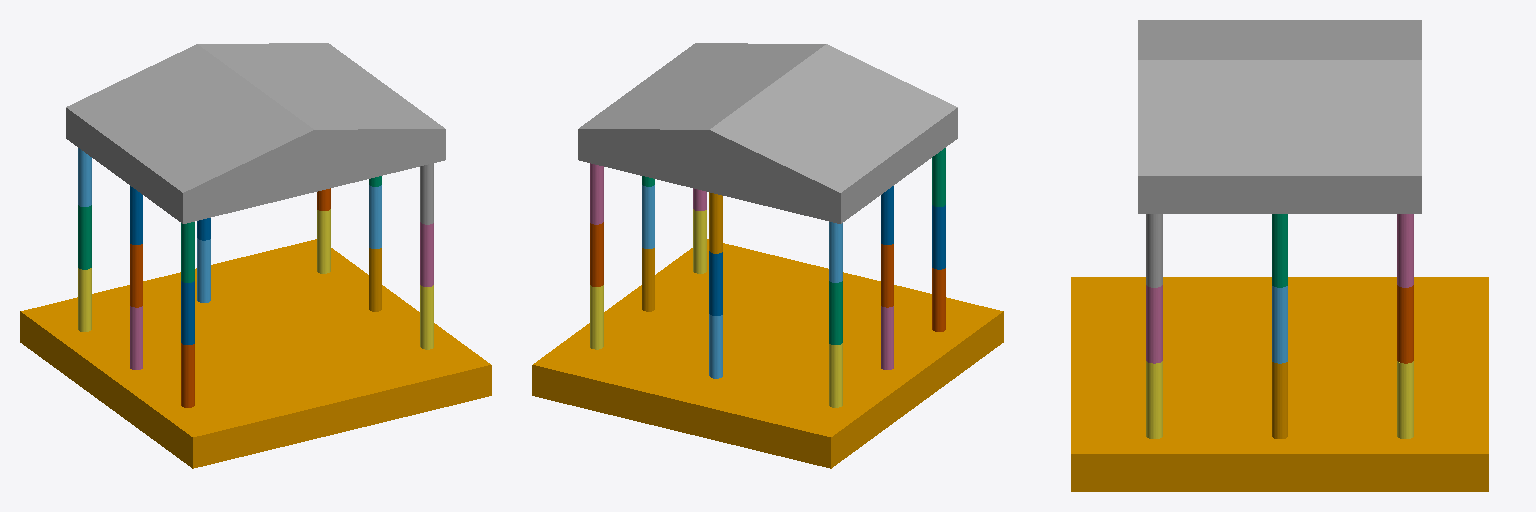
URDF robot description (pagoda):
<robot name="pagoda" version="1.0">
  <joint name="pole_10_joint" type="fixed">
    <origin rpy="0.00000 0.00000 0.00000" xyz="0.00000 0.15000 -0.03729"/>
    <parent link="base_link"/>
    <child link="Pole.010_link"/>
  </joint>
  <joint name="pole_11_joint" type="fixed">
    <origin rpy="0.00000 0.00000 0.00000" xyz="0.00000 0.15000 0.06271"/>
    <parent link="base_link"/>
    <child link="Pole.011_link"/>
  </joint>
  <joint name="pole_1_joint" type="fixed">
    <origin rpy="0.00000 0.00000 0.00000" xyz="0.20000 -0.15000 -0.03729"/>
    <parent link="base_link"/>
    <child link="Pole.001_link"/>
  </joint>
  <joint name="pole_20_joint" type="fixed">
    <origin rpy="0.00000 0.00000 0.00000" xyz="-0.20000 -0.15000 0.06271"/>
    <parent link="base_link"/>
    <child link="Pole.020_link"/>
  </joint>
  <joint name="pole_21_joint" type="fixed">
    <origin rpy="0.00000 0.00000 0.00000" xyz="-0.20000 -0.15000 -0.03729"/>
    <parent link="base_link"/>
    <child link="Pole.021_link"/>
  </joint>
  <joint name="pole_2_joint" type="fixed">
    <origin rpy="0.00000 0.00000 0.00000" xyz="0.20000 -0.15000 0.06271"/>
    <parent link="base_link"/>
    <child link="Pole.002_link"/>
  </joint>
  <joint name="pole_3_joint" type="fixed">
    <origin rpy="0.00000 0.00000 0.00000" xyz="0.20000 -0.15000 0.16271"/>
    <parent link="base_link"/>
    <child link="Pole.003_link"/>
  </joint>
  <joint name="pole_4_joint" type="fixed">
    <origin rpy="0.00000 0.00000 0.00000" xyz="0.20000 0.00000 -0.03729"/>
    <parent link="base_link"/>
    <child link="Pole.004_link"/>
  </joint>
  <joint name="pole_5_joint" type="fixed">
    <origin rpy="0.00000 0.00000 0.00000" xyz="0.20000 0.00000 0.06271"/>
    <parent link="base_link"/>
    <child link="Pole.005_link"/>
  </joint>
  <joint name="pole_6_joint" type="fixed">
    <origin rpy="0.00000 0.00000 0.00000" xyz="0.20000 0.00000 0.16271"/>
    <parent link="base_link"/>
    <child link="Pole.006_link"/>
  </joint>
  <joint name="pole_7_joint" type="fixed">
    <origin rpy="0.00000 0.00000 0.00000" xyz="0.20000 0.15000 -0.03729"/>
    <parent link="base_link"/>
    <child link="Pole.007_link"/>
  </joint>
  <joint name="pole_8_joint" type="fixed">
    <origin rpy="0.00000 0.00000 0.00000" xyz="0.20000 0.15011 0.06271"/>
    <parent link="base_link"/>
    <child link="Pole.008_link"/>
  </joint>
  <joint name="pole_12_joint" type="fixed">
    <origin rpy="0.00000 0.00000 0.00000" xyz="0.00000 0.15000 0.16271"/>
    <parent link="base_link"/>
    <child link="Pole.012_link"/>
  </joint>
  <joint name="pole_9_joint" type="fixed">
    <origin rpy="0.00000 0.00000 0.00000" xyz="0.20000 0.15011 0.16271"/>
    <parent link="base_link"/>
    <child link="Pole.009_link"/>
  </joint>
  <joint name="roof_joint" type="fixed">
    <origin rpy="0.00000 0.00000 0.00000" xyz="-0.00003 0.00016 0.30210"/>
    <parent link="base_link"/>
    <child link="Roof_link"/>
  </joint>
  <joint name="pole_13_joint" type="fixed">
    <origin rpy="0.00000 0.00000 0.00000" xyz="-0.20000 0.15000 0.16271"/>
    <parent link="base_link"/>
    <child link="Pole.013_link"/>
  </joint>
  <joint name="pole_14_joint" type="fixed">
    <origin rpy="0.00000 0.00000 0.00000" xyz="-0.20000 0.15000 0.06271"/>
    <parent link="base_link"/>
    <child link="Pole.014_link"/>
  </joint>
  <joint name="pole_15_joint" type="fixed">
    <origin rpy="0.00000 0.00000 0.00000" xyz="-0.20000 0.15000 -0.03729"/>
    <parent link="base_link"/>
    <child link="Pole.015_link"/>
  </joint>
  <joint name="pole_16_joint" type="fixed">
    <origin rpy="0.00000 0.00000 0.00000" xyz="-0.20000 0.00000 0.16271"/>
    <parent link="base_link"/>
    <child link="Pole.016_link"/>
  </joint>
  <joint name="pole_17_joint" type="fixed">
    <origin rpy="0.00000 0.00000 0.00000" xyz="-0.20000 0.00000 0.06271"/>
    <parent link="base_link"/>
    <child link="Pole.017_link"/>
  </joint>
  <joint name="pole_18_joint" type="fixed">
    <origin rpy="0.00000 0.00000 0.00000" xyz="-0.20000 0.00000 -0.03729"/>
    <parent link="base_link"/>
    <child link="Pole.018_link"/>
  </joint>
  <joint name="pole_19_joint" type="fixed">
    <origin rpy="0.00000 0.00000 0.00000" xyz="-0.20000 -0.15000 0.16271"/>
    <parent link="base_link"/>
    <child link="Pole.019_link"/>
  </joint>
  <link name="base_link">
    <collision name="Base_collision">
      <origin rpy="0.00000 0.00000 0.00000" xyz="0.00000 0.00000 -0.12479"/>
      <geometry>
        <box size="0.50000 0.50000 0.05000"/>
      </geometry>
    </collision>
    <visual name="Base">
      <material name="None"/>
      <origin rpy="0.00000 0.00000 0.00000" xyz="0.00000 0.00000 -0.12479"/>
      <geometry>
        <mesh filename="../meshes/stl/Cube.001.stl" scale="1.00000 1.00000 1.00000"/>
      </geometry>
    </visual>
  </link>
  <link name="Pole.010_link">
    <collision name="Pole.010_collision">
      <origin rpy="0.00000 0.00000 0.00000" xyz="-0.00000 -0.00000 -0.01250"/>
      <geometry>
        <cylinder radius="0.01000" length="0.10000"/>
      </geometry>
    </collision>
    <visual name="Pole.010">
      <material name="None"/>
      <origin rpy="0.00000 0.00000 0.00000" xyz="-0.00000 -0.00000 -0.01250"/>
      <geometry>
        <cylinder radius="0.01000" length="0.10000"/>
      </geometry>
    </visual>
  </link>
  <link name="Pole.019_link">
    <collision name="Pole.019_collision">
      <origin rpy="0.00000 0.00000 0.00000" xyz="0.00000 -0.00000 -0.01250"/>
      <geometry>
        <cylinder radius="0.01000" length="0.10000"/>
      </geometry>
    </collision>
    <visual name="Pole.019">
      <material name="None"/>
      <origin rpy="0.00000 0.00000 0.00000" xyz="0.00000 -0.00000 -0.01250"/>
      <geometry>
        <cylinder radius="0.01000" length="0.10000"/>
      </geometry>
    </visual>
  </link>
  <link name="Pole.001_link">
    <collision name="Pole.001_collision">
      <origin rpy="0.00000 0.00000 0.00000" xyz="-0.00000 -0.00000 -0.01250"/>
      <geometry>
        <cylinder radius="0.01000" length="0.10000"/>
      </geometry>
    </collision>
    <visual name="Pole.001">
      <material name="None"/>
      <origin rpy="0.00000 0.00000 0.00000" xyz="-0.00000 -0.00000 -0.01250"/>
      <geometry>
        <cylinder radius="0.01000" length="0.10000"/>
      </geometry>
    </visual>
  </link>
  <link name="Pole.020_link">
    <collision name="Pole.020_collision">
      <origin rpy="0.00000 0.00000 0.00000" xyz="0.00000 -0.00000 -0.01250"/>
      <geometry>
        <cylinder radius="0.01000" length="0.10000"/>
      </geometry>
    </collision>
    <visual name="Pole.020">
      <material name="None"/>
      <origin rpy="0.00000 0.00000 0.00000" xyz="0.00000 -0.00000 -0.01250"/>
      <geometry>
        <cylinder radius="0.01000" length="0.10000"/>
      </geometry>
    </visual>
  </link>
  <link name="Pole.021_link">
    <collision name="Pole.021_collision">
      <origin rpy="0.00000 0.00000 0.00000" xyz="0.00000 -0.00000 -0.01250"/>
      <geometry>
        <cylinder radius="0.01000" length="0.10000"/>
      </geometry>
    </collision>
    <visual name="Pole.021">
      <material name="None"/>
      <origin rpy="0.00000 0.00000 0.00000" xyz="0.00000 -0.00000 -0.01250"/>
      <geometry>
        <cylinder radius="0.01000" length="0.10000"/>
      </geometry>
    </visual>
  </link>
  <link name="Pole.002_link">
    <collision name="Pole.002_collision">
      <origin rpy="0.00000 0.00000 0.00000" xyz="-0.00000 -0.00000 -0.01250"/>
      <geometry>
        <cylinder radius="0.01000" length="0.10000"/>
      </geometry>
    </collision>
    <visual name="Pole.002">
      <material name="None"/>
      <origin rpy="0.00000 0.00000 0.00000" xyz="-0.00000 -0.00000 -0.01250"/>
      <geometry>
        <cylinder radius="0.01000" length="0.10000"/>
      </geometry>
    </visual>
  </link>
  <link name="Pole.003_link">
    <collision name="Pole.003_collision">
      <origin rpy="0.00000 0.00000 0.00000" xyz="-0.00000 -0.00000 -0.01250"/>
      <geometry>
        <cylinder radius="0.01000" length="0.10000"/>
      </geometry>
    </collision>
    <visual name="Pole.003">
      <material name="None"/>
      <origin rpy="0.00000 0.00000 0.00000" xyz="-0.00000 -0.00000 -0.01250"/>
      <geometry>
        <cylinder radius="0.01000" length="0.10000"/>
      </geometry>
    </visual>
  </link>
  <link name="Pole.004_link">
    <collision name="Pole.004_collision">
      <origin rpy="0.00000 0.00000 0.00000" xyz="-0.00000 0.00000 -0.01250"/>
      <geometry>
        <cylinder radius="0.01000" length="0.10000"/>
      </geometry>
    </collision>
    <visual name="Pole.004">
      <material name="None"/>
      <origin rpy="0.00000 0.00000 0.00000" xyz="0.00000 0.00000 -0.01250"/>
      <geometry>
        <cylinder radius="0.01000" length="0.10000"/>
      </geometry>
    </visual>
  </link>
  <link name="Pole.005_link">
    <collision name="Pole.005_collision">
      <origin rpy="0.00000 0.00000 0.00000" xyz="-0.00000 0.00000 -0.01250"/>
      <geometry>
        <cylinder radius="0.01000" length="0.10000"/>
      </geometry>
    </collision>
    <visual name="Pole.005">
      <material name="None"/>
      <origin rpy="0.00000 0.00000 0.00000" xyz="0.00000 0.00000 -0.01250"/>
      <geometry>
        <cylinder radius="0.01000" length="0.10000"/>
      </geometry>
    </visual>
  </link>
  <link name="Pole.006_link">
    <collision name="Pole.006_collision">
      <origin rpy="0.00000 0.00000 0.00000" xyz="-0.00000 0.00000 -0.01250"/>
      <geometry>
        <cylinder radius="0.01000" length="0.10000"/>
      </geometry>
    </collision>
    <visual name="Pole.006">
      <material name="None"/>
      <origin rpy="0.00000 0.00000 0.00000" xyz="0.00000 0.00000 -0.01250"/>
      <geometry>
        <cylinder radius="0.01000" length="0.10000"/>
      </geometry>
    </visual>
  </link>
  <link name="Pole.007_link">
    <collision name="Pole.007_collision">
      <origin rpy="0.00000 0.00000 0.00000" xyz="-0.00000 -0.00000 -0.01250"/>
      <geometry>
        <cylinder radius="0.01000" length="0.10000"/>
      </geometry>
    </collision>
    <visual name="Pole.007">
      <material name="None"/>
      <origin rpy="0.00000 0.00000 0.00000" xyz="-0.00000 -0.00000 -0.01250"/>
      <geometry>
        <cylinder radius="0.01000" length="0.10000"/>
      </geometry>
    </visual>
  </link>
  <link name="Pole.011_link">
    <collision name="Pole.011_collision">
      <origin rpy="0.00000 0.00000 0.00000" xyz="-0.00000 -0.00000 -0.01250"/>
      <geometry>
        <cylinder radius="0.01000" length="0.10000"/>
      </geometry>
    </collision>
    <visual name="Pole.011">
      <material name="None"/>
      <origin rpy="0.00000 0.00000 0.00000" xyz="-0.00000 -0.00000 -0.01250"/>
      <geometry>
        <cylinder radius="0.01000" length="0.10000"/>
      </geometry>
    </visual>
  </link>
  <link name="Pole.008_link">
    <collision name="Pole.008_collision">
      <origin rpy="0.00000 0.00000 0.00000" xyz="-0.00000 0.00000 -0.01250"/>
      <geometry>
        <cylinder radius="0.01000" length="0.10000"/>
      </geometry>
    </collision>
    <visual name="Pole.008">
      <material name="None"/>
      <origin rpy="0.00000 0.00000 0.00000" xyz="-0.00000 0.00000 -0.01250"/>
      <geometry>
        <cylinder radius="0.01000" length="0.10000"/>
      </geometry>
    </visual>
  </link>
  <link name="Pole.009_link">
    <collision name="Pole.009_collision">
      <origin rpy="0.00000 0.00000 0.00000" xyz="-0.00000 0.00000 -0.01250"/>
      <geometry>
        <cylinder radius="0.01000" length="0.10000"/>
      </geometry>
    </collision>
    <visual name="Pole.009">
      <material name="None"/>
      <origin rpy="0.00000 0.00000 0.00000" xyz="-0.00000 0.00000 -0.01250"/>
      <geometry>
        <cylinder radius="0.01000" length="0.10000"/>
      </geometry>
    </visual>
  </link>
  <link name="Roof_link">
    <collision name="Roof_collision">
      <origin rpy="0.00000 0.00000 0.00000" xyz="-0.00052 0.00052 -0.03557"/>
      <geometry>
        <mesh filename="../meshes/stl/geometry_0.stl" scale="1.00000 1.00000 1.00000"/>
      </geometry>
    </collision>
    <visual name="Roof">
      <material name="None"/>
      <origin rpy="0.00000 0.00000 0.00000" xyz="0.00000 -0.00000 -0.05000"/>
      <geometry>
        <mesh filename="../meshes/stl/Cube.002.stl" scale="1.00000 1.00000 1.00000"/>
      </geometry>
    </visual>
  </link>
  <link name="Pole.012_link">
    <collision name="Pole.012_collision">
      <origin rpy="0.00000 0.00000 0.00000" xyz="-0.00000 -0.00000 -0.01250"/>
      <geometry>
        <cylinder radius="0.01000" length="0.10000"/>
      </geometry>
    </collision>
    <visual name="Pole.012">
      <material name="None"/>
      <origin rpy="0.00000 0.00000 0.00000" xyz="-0.00000 -0.00000 -0.01250"/>
      <geometry>
        <cylinder radius="0.01000" length="0.10000"/>
      </geometry>
    </visual>
  </link>
  <link name="Pole.013_link">
    <collision name="Pole.013_collision">
      <origin rpy="0.00000 0.00000 0.00000" xyz="0.00000 -0.00000 -0.01250"/>
      <geometry>
        <cylinder radius="0.01000" length="0.10000"/>
      </geometry>
    </collision>
    <visual name="Pole.013">
      <material name="None"/>
      <origin rpy="0.00000 0.00000 0.00000" xyz="0.00000 -0.00000 -0.01250"/>
      <geometry>
        <cylinder radius="0.01000" length="0.10000"/>
      </geometry>
    </visual>
  </link>
  <link name="Pole.014_link">
    <collision name="Pole.014_collision">
      <origin rpy="0.00000 0.00000 0.00000" xyz="0.00000 -0.00000 -0.01250"/>
      <geometry>
        <cylinder radius="0.01000" length="0.10000"/>
      </geometry>
    </collision>
    <visual name="Pole.014">
      <material name="None"/>
      <origin rpy="0.00000 0.00000 0.00000" xyz="0.00000 -0.00000 -0.01250"/>
      <geometry>
        <cylinder radius="0.01000" length="0.10000"/>
      </geometry>
    </visual>
  </link>
  <link name="Pole.015_link">
    <collision name="Pole.015_collision">
      <origin rpy="0.00000 0.00000 0.00000" xyz="0.00000 -0.00000 -0.01250"/>
      <geometry>
        <cylinder radius="0.01000" length="0.10000"/>
      </geometry>
    </collision>
    <visual name="Pole.015">
      <material name="None"/>
      <origin rpy="0.00000 0.00000 0.00000" xyz="0.00000 -0.00000 -0.01250"/>
      <geometry>
        <cylinder radius="0.01000" length="0.10000"/>
      </geometry>
    </visual>
  </link>
  <link name="Pole.016_link">
    <collision name="Pole.016_collision">
      <origin rpy="0.00000 0.00000 0.00000" xyz="0.00000 0.00000 -0.01250"/>
      <geometry>
        <cylinder radius="0.01000" length="0.10000"/>
      </geometry>
    </collision>
    <visual name="Pole.016">
      <material name="None"/>
      <origin rpy="0.00000 0.00000 0.00000" xyz="0.00000 0.00000 -0.01250"/>
      <geometry>
        <cylinder radius="0.01000" length="0.10000"/>
      </geometry>
    </visual>
  </link>
  <link name="Pole.017_link">
    <collision name="Pole.017_collision">
      <origin rpy="0.00000 0.00000 0.00000" xyz="0.00000 0.00000 -0.01250"/>
      <geometry>
        <cylinder radius="0.01000" length="0.10000"/>
      </geometry>
    </collision>
    <visual name="Pole.017">
      <material name="None"/>
      <origin rpy="0.00000 0.00000 0.00000" xyz="0.00000 0.00000 -0.01250"/>
      <geometry>
        <cylinder radius="0.01000" length="0.10000"/>
      </geometry>
    </visual>
  </link>
  <link name="Pole.018_link">
    <collision name="Pole.018_collision">
      <origin rpy="0.00000 0.00000 0.00000" xyz="0.00000 0.00000 -0.01250"/>
      <geometry>
        <cylinder radius="0.01000" length="0.10000"/>
      </geometry>
    </collision>
    <visual name="Pole.018">
      <material name="None"/>
      <origin rpy="0.00000 0.00000 0.00000" xyz="0.00000 0.00000 -0.01250"/>
      <geometry>
        <cylinder radius="0.01000" length="0.10000"/>
      </geometry>
    </visual>
  </link>
</robot>

--- Render facts (derived) ---
Views: 3 orthographic renders of the robot side by side, from view 1: azimuth 30°, elevation 25°; view 2: azimuth 150°, elevation 25°; view 3: azimuth 270°, elevation 25°.
Robot: pagoda — 23 links, 22 joints (22 fixed); root link base_link; default pose: all joints at 0.
Visible links, largest first — view 1: base_link, Roof_link, Pole.021_link, Pole.007_link, Pole.014_link, Pole.001_link, Pole.010_link, Pole.002_link, Pole.015_link, Pole.020_link, Pole.019_link, Pole.003_link (+6 smaller); view 2: base_link, Roof_link, Pole.001_link, Pole.015_link, Pole.020_link, Pole.010_link, Pole.007_link, Pole.011_link, Pole.008_link, Pole.021_link, Pole.014_link, Pole.013_link (+8 smaller); view 3: base_link, Roof_link, Pole.002_link, Pole.008_link, Pole.001_link, Pole.007_link, Pole.003_link, Pole.009_link, Pole.005_link, Pole.004_link, Pole.006_link.
Link boxes in pixels (bbox=[...]): base_link: bbox=[20, 239, 491, 468]; Roof_link: bbox=[66, 43, 445, 223]; Pole.021_link: bbox=[181, 343, 194, 407]; Pole.007_link: bbox=[317, 209, 330, 273]; Pole.014_link: bbox=[78, 205, 91, 269]; Pole.001_link: bbox=[420, 285, 433, 349]; Pole.010_link: bbox=[197, 238, 210, 302]; Pole.002_link: bbox=[420, 222, 433, 286]; Pole.015_link: bbox=[78, 268, 91, 331]; Pole.020_link: bbox=[181, 281, 194, 344]; Pole.019_link: bbox=[181, 222, 194, 282]; Pole.003_link: bbox=[420, 163, 433, 224]; base_link: bbox=[532, 239, 1003, 468]; Roof_link: bbox=[578, 43, 957, 223]; Pole.001_link: bbox=[693, 209, 706, 273]; Pole.015_link: bbox=[829, 343, 842, 407]; Pole.020_link: bbox=[932, 205, 945, 269]; Pole.010_link: bbox=[709, 314, 722, 378]; Pole.007_link: bbox=[590, 285, 603, 349]; Pole.011_link: bbox=[709, 251, 722, 315]; Pole.008_link: bbox=[590, 222, 603, 286]; Pole.021_link: bbox=[932, 268, 945, 331]; Pole.014_link: bbox=[829, 281, 842, 344]; Pole.013_link: bbox=[829, 222, 842, 282]; base_link: bbox=[1071, 277, 1488, 491]; Roof_link: bbox=[1138, 20, 1421, 213]; Pole.002_link: bbox=[1146, 285, 1162, 363]; Pole.008_link: bbox=[1397, 285, 1413, 363]; Pole.001_link: bbox=[1146, 361, 1162, 438]; Pole.007_link: bbox=[1397, 361, 1413, 438]; Pole.003_link: bbox=[1146, 214, 1162, 287]; Pole.009_link: bbox=[1397, 214, 1413, 287]; Pole.005_link: bbox=[1272, 286, 1287, 363]; Pole.004_link: bbox=[1272, 362, 1287, 438]; Pole.006_link: bbox=[1272, 214, 1287, 287].
Size in the robot's own frame: 0.5 by 0.5 by 0.4519 metres.
2 mesh visuals loaded from 2 distinct referenced files (2 binary STL).